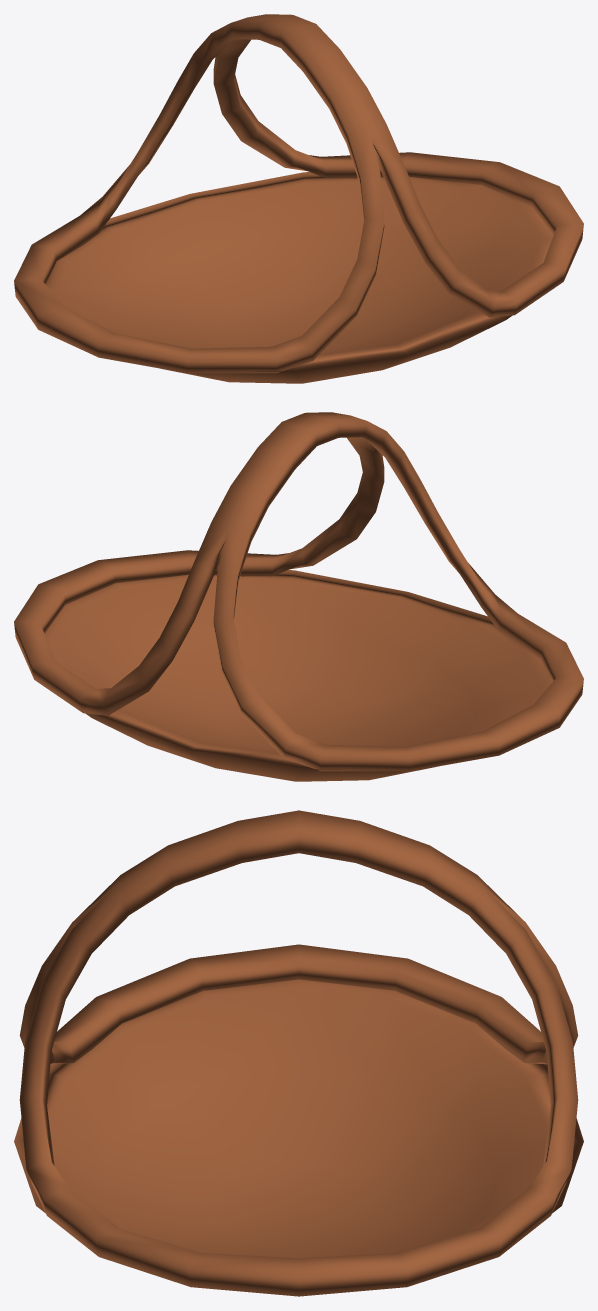
File: basketog.gltf
3 views of the same model, one above another, from view 1: azimuth 30°, elevation 25°; view 2: azimuth 150°, elevation 25°; view 3: azimuth 270°, elevation 25° (orthographic). The views are drawn at different scales.
Parts seen in each view (by area): view 1: node_id36, node_id34; view 2: node_id36, node_id34; view 3: node_id36, node_id34.
Boxes of the visible parts, x1,y1,x2,y2 form: node_id36: (16,172,581,383); node_id34: (14,14,583,373); node_id36: (16,570,581,781); node_id34: (14,412,583,771); node_id36: (14,979,583,1293); node_id34: (19,810,578,1296).
Size of the model in its own units: 0.512 by 0.2865 by 0.3723.
